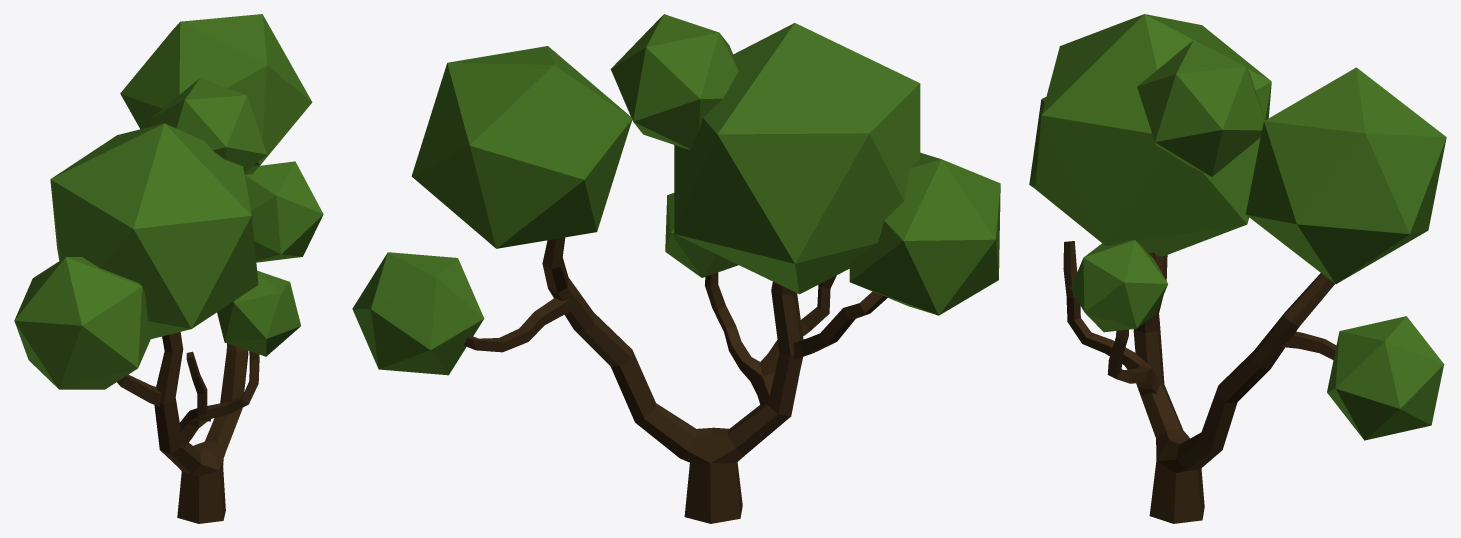
The model's file is treechild.dae.
3 views of the same model, side by side, from view 1: azimuth 30°, elevation 25°; view 2: azimuth 150°, elevation 25°; view 3: azimuth 270°, elevation 25° (orthographic). The views are drawn at different scales.
Parts seen in each view (by area): view 1: Tree_lp_11; view 2: Tree_lp_11; view 3: Tree_lp_11.
Boxes of the visible parts, box(x1,y1,x2,y2) form: Tree_lp_11: box(14, 14, 323, 523); Tree_lp_11: box(352, 14, 1000, 523); Tree_lp_11: box(1029, 14, 1446, 523).
Bounding box in the file's own units: 27.72 × 26.54 × 21.08.
